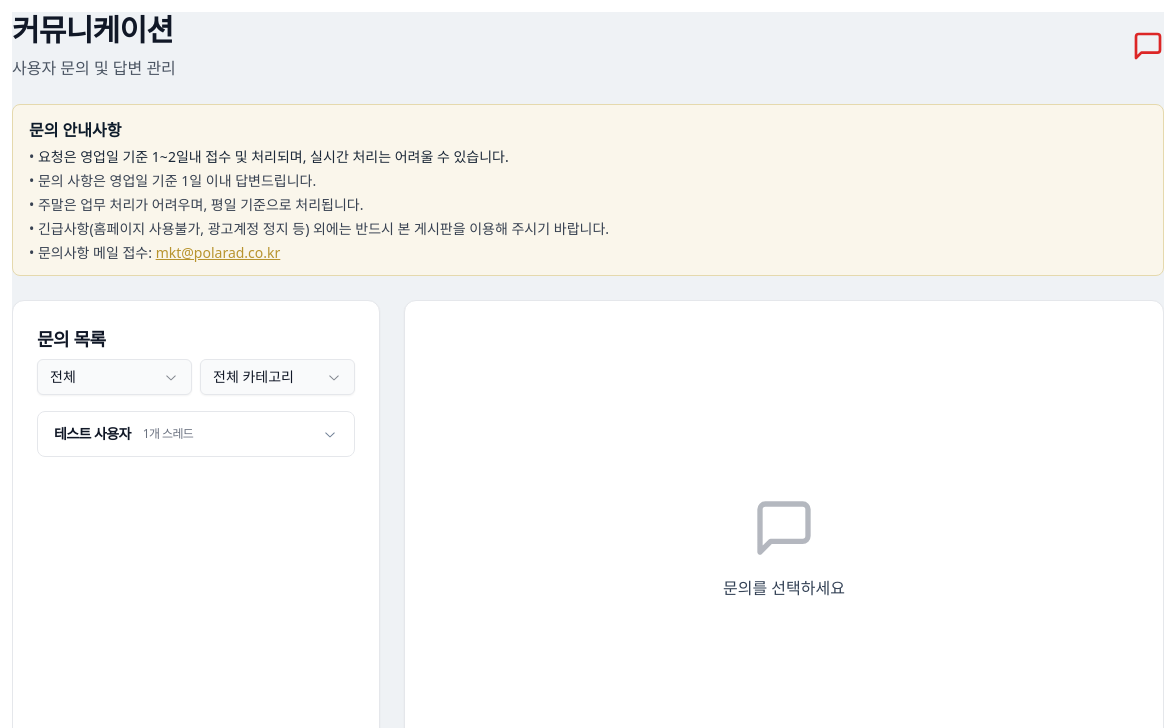
Test case: AdminCommunicationPage conversation selection › loads conversation details on click and keeps them visible after mark-read refresh
The image size is (1176, 728).
expect the text "테스트 사용자" is shown once: met, box [54,424,131,444]
Click the button "테스트 사용자 1개 스레드".
click(196, 434)  # box [38,412,354,456]
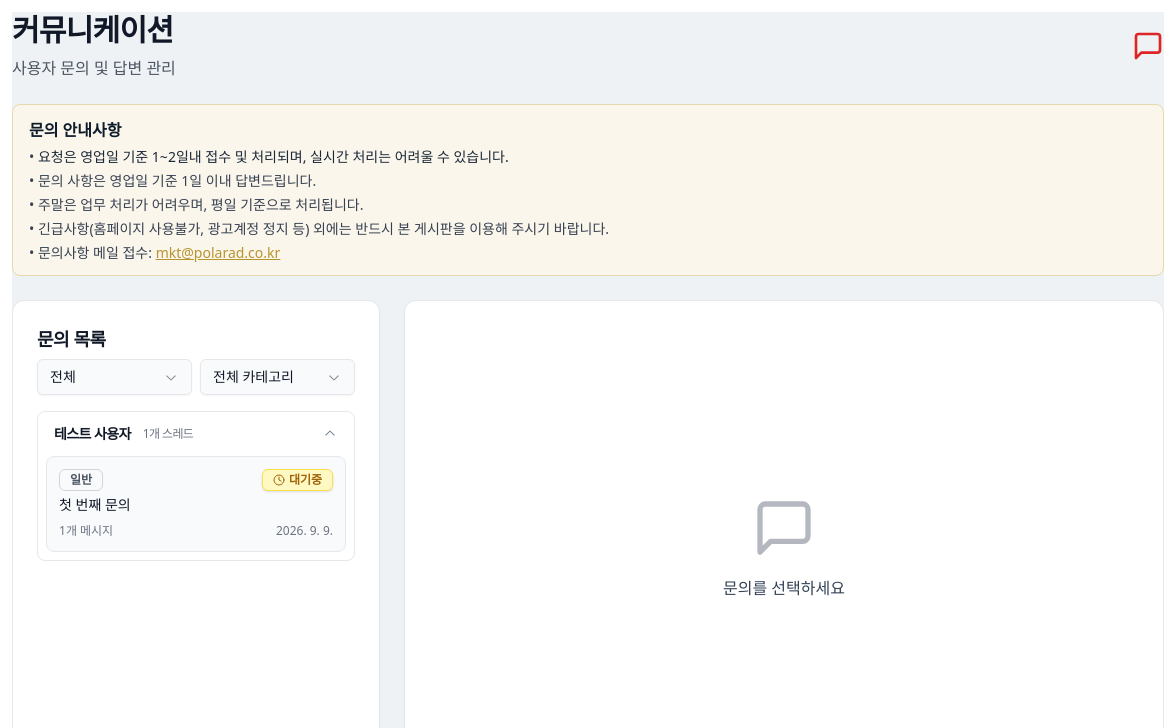
expect the text "상세 대화 내용입니다" is not shown: met
expect the text "첫 번째 문의" is shown: met
Click the text "첫 번째 문의".
click(95, 504)  # box [59,495,131,514]
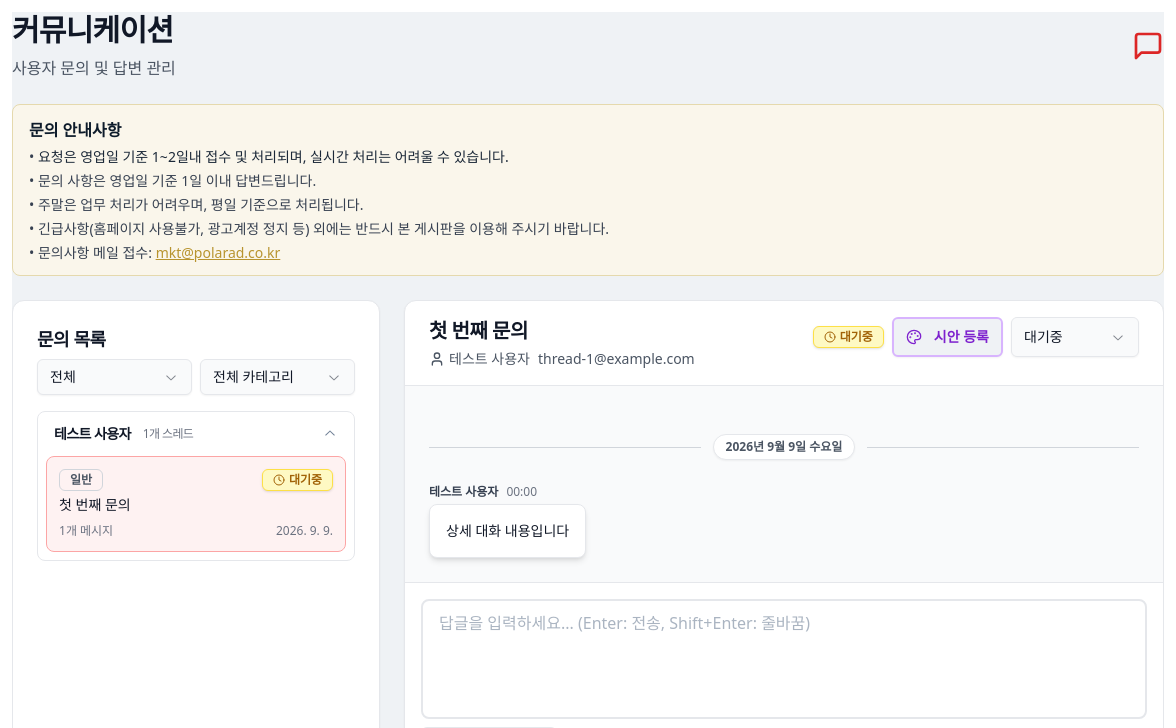
expect the text "상세 대화 내용입니다" is shown: met, box [446,521,569,541]
